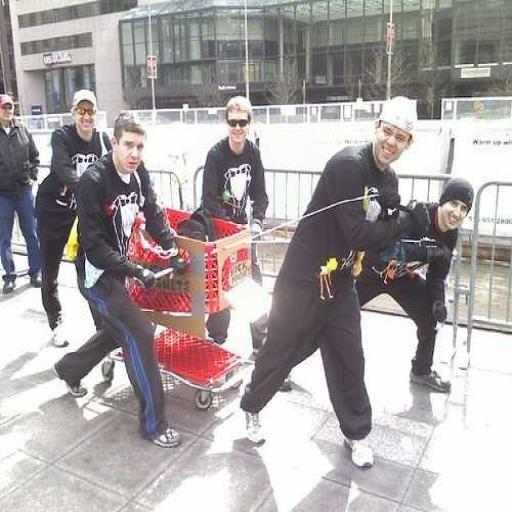shopping_cart: (100, 206, 258, 412)
